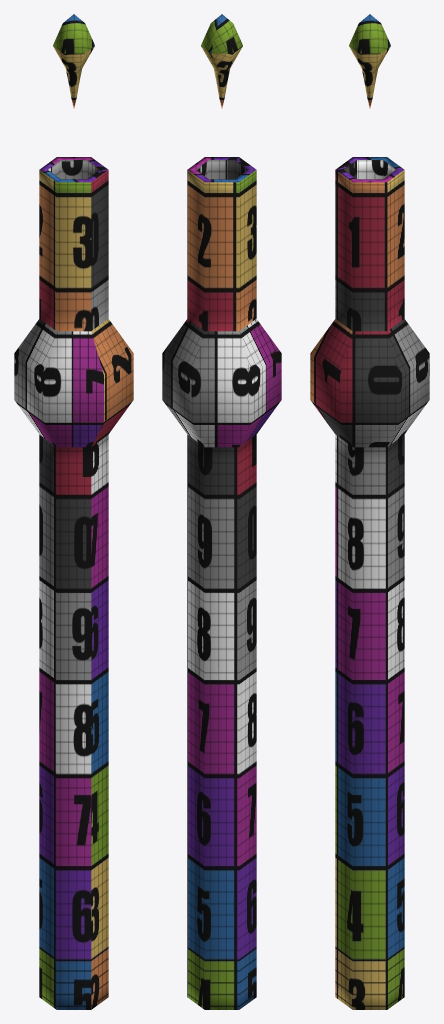
File: blower_model.dae
3 renders of one model, left to right at view 1: azimuth 90°, elevation 25°; view 2: azimuth 150°, elevation 25°; view 3: azimuth 270°, elevation 25°, orthographic.
Parts seen in each view (by area): view 1: Cylinder.002, Sphere; view 2: Cylinder.002, Sphere; view 3: Cylinder.002, Sphere.
Part boxes in pixels (box(x1,y1,x2,y2)): Cylinder.002: box(14, 157, 133, 1009); Sphere: box(53, 14, 94, 108); Cylinder.002: box(162, 157, 281, 1009); Sphere: box(201, 14, 242, 108); Cylinder.002: box(310, 157, 429, 1009); Sphere: box(349, 14, 390, 108).
Bounding box in the file's own units: 0.2268 × 0.2619 × 2.38.
2 materials, 2 textured.
